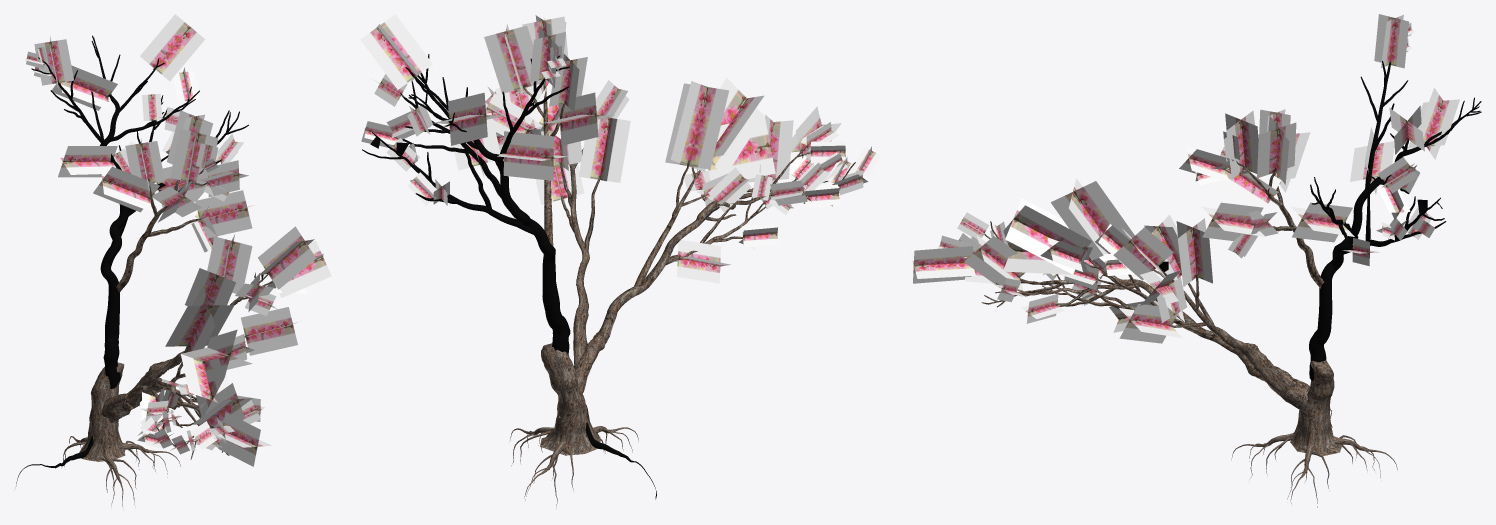
Rendered from PeachOBJ.obj.
3 renders of one model, left to right at view 1: azimuth 30°, elevation 25°; view 2: azimuth 150°, elevation 25°; view 3: azimuth 270°, elevation 25°, orthographic. The views are drawn at different scales.
Visible parts, largest first — view 1: group1 polySurface1 OnyxTREE0, group1 Plane197, group1 Plane112, group1 Object02, group1 Object01, group1 Plane151, group1 Plane154, group1 Plane162, group1 Plane168, Plane092 group1, group1 Plane195, group1 Plane158 (+26 smaller); view 2: group1 Object02, group1 Plane112, group1 Object01, group1 polySurface1 OnyxTREE0, group1 Plane197, group1 Plane144, group1 Plane159, group1 Plane148, group1 Plane195, group1 Plane172, group1 Plane190, group1 Object12 (+23 smaller); view 3: group1 Object02, group1 Plane112, group1 Plane144, group1 Object01, group1 polySurface1 OnyxTREE0, group1 Plane155, group1 Plane159, Plane092 group1, group1 Plane151, group1 Plane158, group1 Plane189, group1 Plane162 (+18 smaller).
Boxes of the visible parts, x1=… form: group1 polySurface1 OnyxTREE0: x1=100, y1=95, x2=128, y2=388; group1 Plane197: x1=140, y1=14, x2=205, y2=81; group1 Plane112: x1=165, y1=285, x2=234, y2=351; group1 Object02: x1=100, y1=272, x2=272, y2=459; group1 Object01: x1=79, y1=362, x2=125, y2=461; group1 Plane151: x1=258, y1=226, x2=316, y2=289; group1 Plane154: x1=241, y1=307, x2=297, y2=355; group1 Plane162: x1=193, y1=190, x2=253, y2=238; group1 Plane168: x1=93, y1=166, x2=159, y2=212; Plane092 group1: x1=207, y1=234, x2=252, y2=293; group1 Plane195: x1=56, y1=146, x2=117, y2=177; group1 Plane158: x1=170, y1=126, x2=218, y2=188; group1 Object02: x1=558, y1=145, x2=863, y2=417; group1 Plane112: x1=665, y1=81, x2=729, y2=171; group1 Object01: x1=540, y1=343, x2=600, y2=455; group1 polySurface1 OnyxTREE0: x1=473, y1=139, x2=570, y2=355; group1 Plane197: x1=360, y1=14, x2=432, y2=89; group1 Plane144: x1=712, y1=77, x2=764, y2=175; group1 Plane159: x1=484, y1=24, x2=544, y2=94; group1 Plane148: x1=578, y1=117, x2=630, y2=182; group1 Plane195: x1=497, y1=131, x2=567, y2=180; group1 Plane172: x1=708, y1=116, x2=775, y2=180; group1 Plane190: x1=432, y1=92, x2=504, y2=145; group1 Object12: x1=569, y1=163, x2=589, y2=367; group1 Object02: x1=981, y1=221, x2=1328, y2=419; group1 Plane112: x1=1051, y1=178, x2=1134, y2=260; group1 Plane144: x1=1003, y1=198, x2=1091, y2=274; group1 Object01: x1=1290, y1=360, x2=1342, y2=455; group1 polySurface1 OnyxTREE0: x1=1309, y1=146, x2=1421, y2=380; group1 Plane155: x1=910, y1=246, x2=975, y2=283; group1 Plane159: x1=1257, y1=115, x2=1296, y2=184; Plane092 group1: x1=1176, y1=218, x2=1212, y2=286; group1 Plane151: x1=1113, y1=227, x2=1173, y2=280; group1 Plane158: x1=1225, y1=111, x2=1258, y2=179; group1 Plane189: x1=1291, y1=202, x2=1354, y2=242; group1 Plane162: x1=1201, y1=202, x2=1265, y2=240.
Bounding box in the file's own units: 79.85 × 119 × 135.
